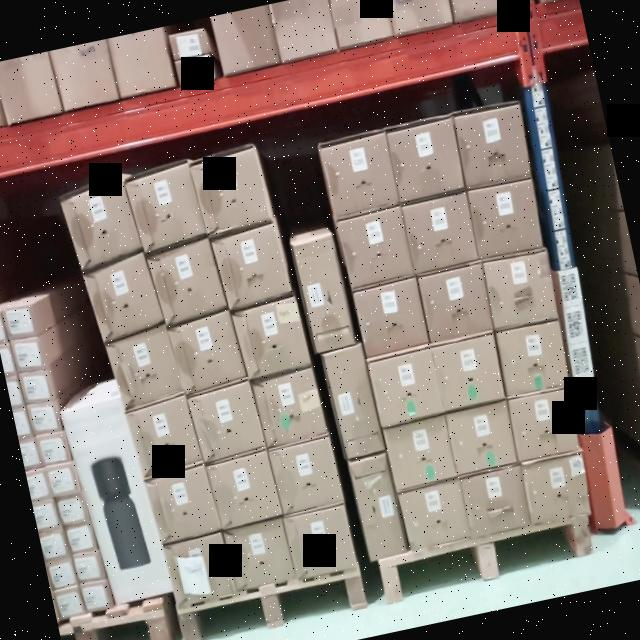box: (59, 398, 172, 603), (294, 230, 359, 356), (382, 118, 470, 207), (320, 126, 398, 225), (144, 236, 230, 325), (83, 252, 168, 342), (190, 151, 274, 241), (166, 307, 251, 393), (124, 165, 205, 252), (201, 449, 283, 534), (64, 182, 144, 269), (211, 223, 291, 309), (335, 206, 414, 290), (110, 322, 184, 410), (483, 248, 562, 328), (130, 398, 208, 479), (464, 178, 544, 256), (418, 264, 496, 344), (346, 456, 406, 560), (188, 380, 267, 458), (326, 348, 382, 458), (401, 194, 479, 272), (142, 464, 221, 541), (354, 278, 429, 354), (460, 110, 534, 186), (272, 436, 344, 514), (382, 412, 457, 486), (236, 298, 310, 372), (161, 534, 236, 607), (434, 336, 504, 414), (286, 507, 357, 581), (446, 402, 520, 472), (221, 521, 293, 592), (510, 390, 580, 463), (459, 466, 532, 536), (252, 372, 324, 442), (369, 354, 440, 424), (400, 479, 471, 549), (522, 454, 592, 523), (501, 326, 566, 394), (80, 578, 113, 612), (18, 371, 51, 404), (36, 432, 68, 464), (47, 557, 79, 588), (65, 522, 95, 555), (12, 343, 45, 373), (48, 465, 78, 496), (29, 406, 60, 436), (73, 551, 103, 581), (58, 495, 87, 526), (52, 588, 84, 615), (7, 310, 35, 340), (40, 532, 66, 562), (32, 500, 58, 529)
